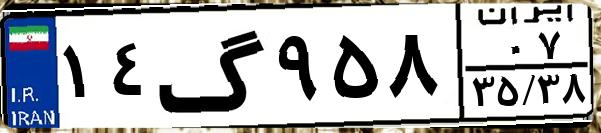0: (508, 27, 537, 80)
1: (57, 26, 110, 100)
3: (470, 70, 495, 125), (535, 70, 560, 125)
4: (110, 28, 156, 98)
5: (330, 28, 385, 110), (495, 70, 520, 125)
7: (537, 27, 568, 80)
8: (385, 28, 445, 110), (560, 70, 590, 125)
9: (270, 28, 330, 110)
گ: (156, 12, 270, 120)
